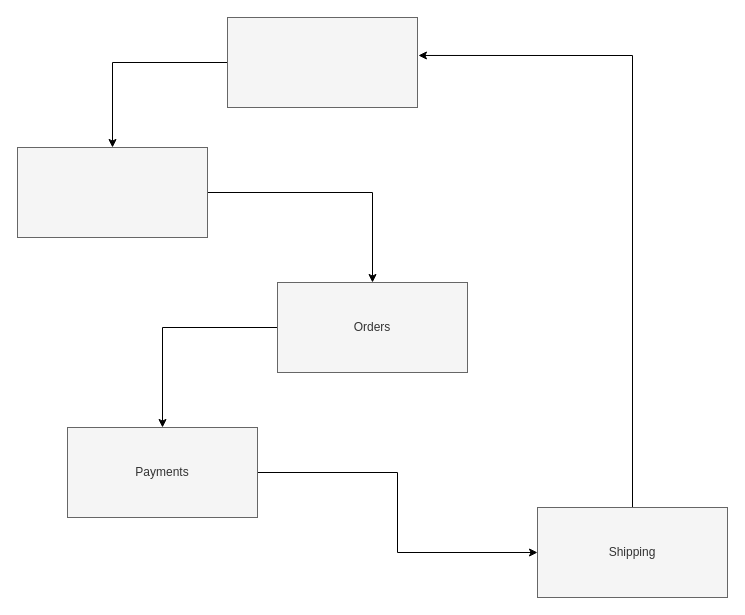
Some shapes in this 745 by 615 pixel diagram are drawn without their labels. Here are the shapes that lost their labels. From the top down, the box of each, then its label:
(226, 16, 418, 108): Customers
(16, 146, 208, 238): Products
